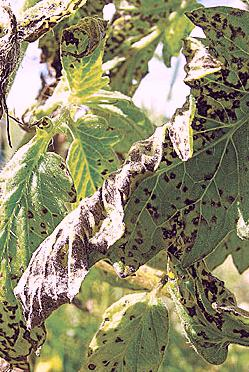Tomato Septoria leaf spot: (16, 13, 249, 314), (0, 134, 76, 371), (61, 291, 174, 372)
